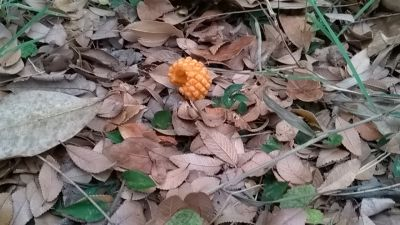eggs: (168, 58, 214, 99)
